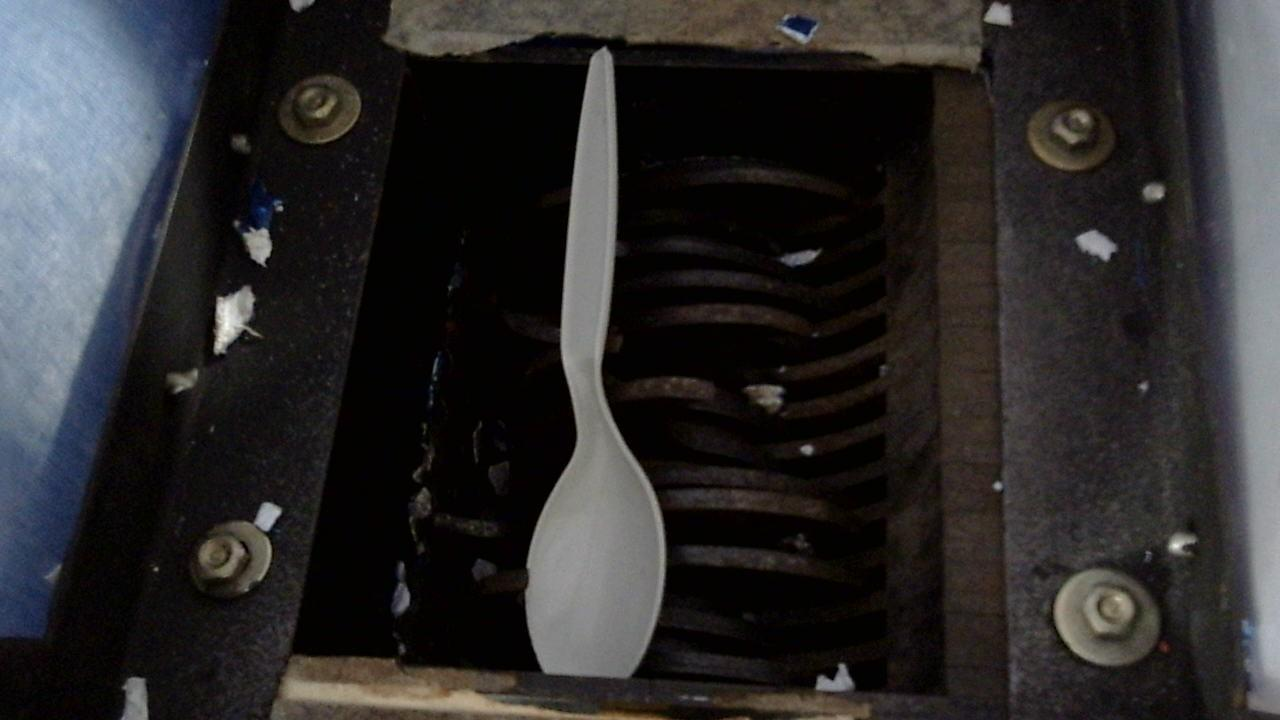Plastik: (519, 0, 723, 720)
